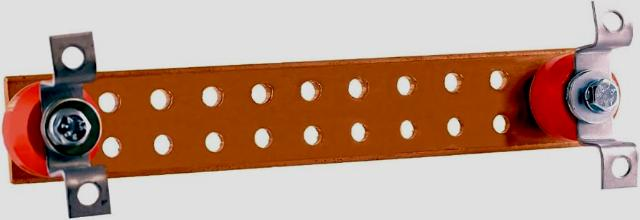busbar: (2, 3, 636, 217)
